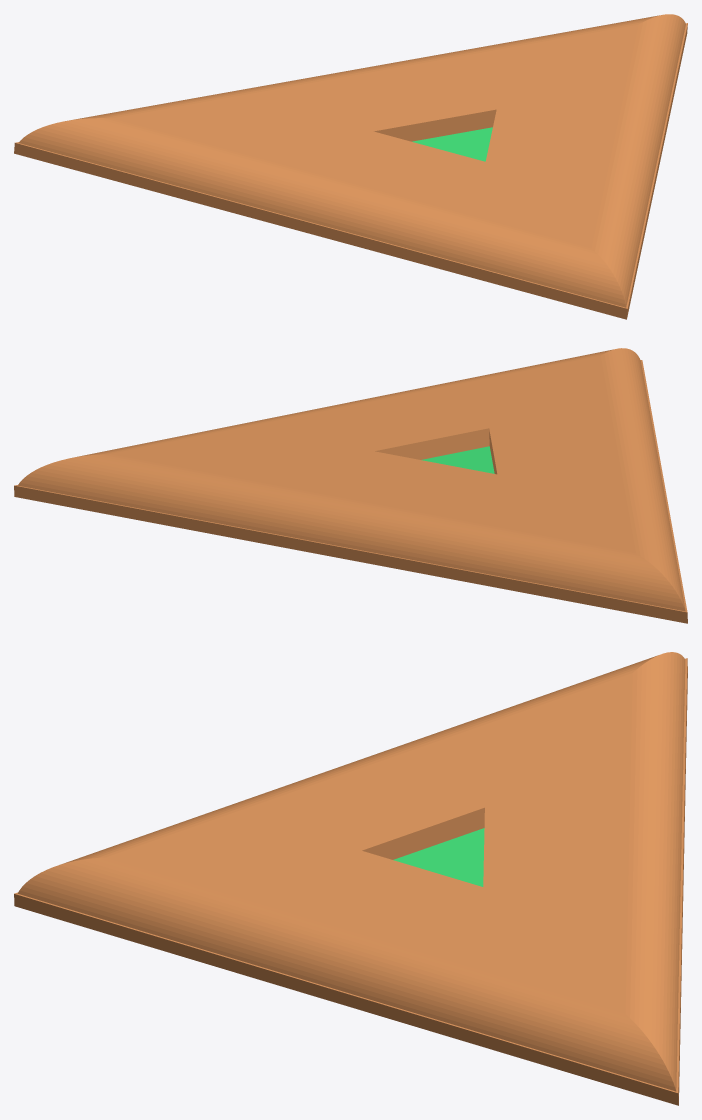
File: fatayer.fbx
3 renders of one model, top to bottom at view 1: azimuth 30°, elevation 25°; view 2: azimuth 150°, elevation 25°; view 3: azimuth 270°, elevation 25°, orthographic. The views are drawn at different scales.
Parts seen in each view (by area): view 1: Icosphere; view 2: Icosphere; view 3: Icosphere.
Boxes of the visible parts, left/top/right/bottom form: Icosphere: left=14, top=14, right=687, bottom=319; Icosphere: left=14, top=348, right=687, bottom=623; Icosphere: left=14, top=652, right=687, bottom=1105.
Size of the model in its own units: 61.75 by 6.63 by 45.39.
